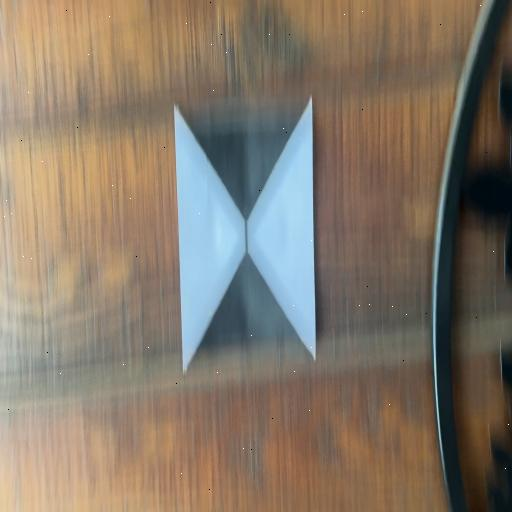target: (176, 112, 315, 350)
